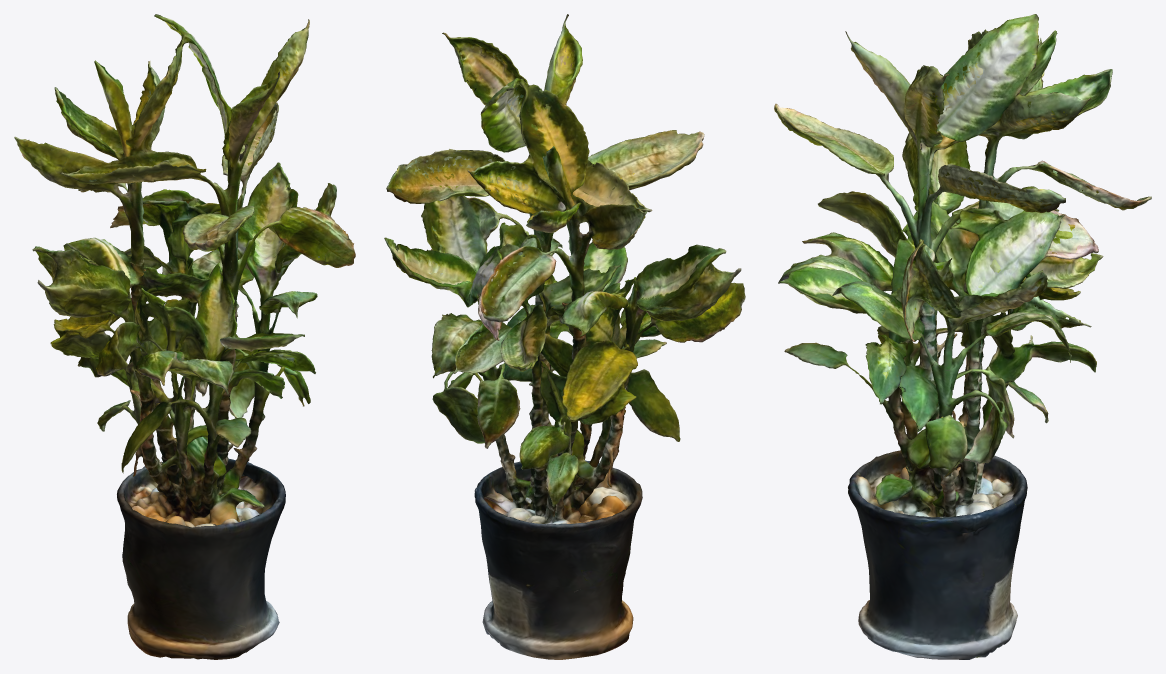
The picture shows the model from 3 angles, left to right: view 1: azimuth 30°, elevation 25°; view 2: azimuth 150°, elevation 25°; view 3: azimuth 270°, elevation 25°; orthographic projection. The views are drawn at different scales.
Visible parts, largest first — view 1: Dieffenbachia_0; view 2: Dieffenbachia_0; view 3: Dieffenbachia_0.
Part boxes in pixels (left/top/right/bottom): Dieffenbachia_0: left=14, top=14, right=355, bottom=659; Dieffenbachia_0: left=384, top=14, right=745, bottom=659; Dieffenbachia_0: left=774, top=14, right=1151, bottom=659.
Bounding box in the file's own units: 0.5069 × 0.8995 × 0.4974.
Materials: 1 (1 with a texture image).
